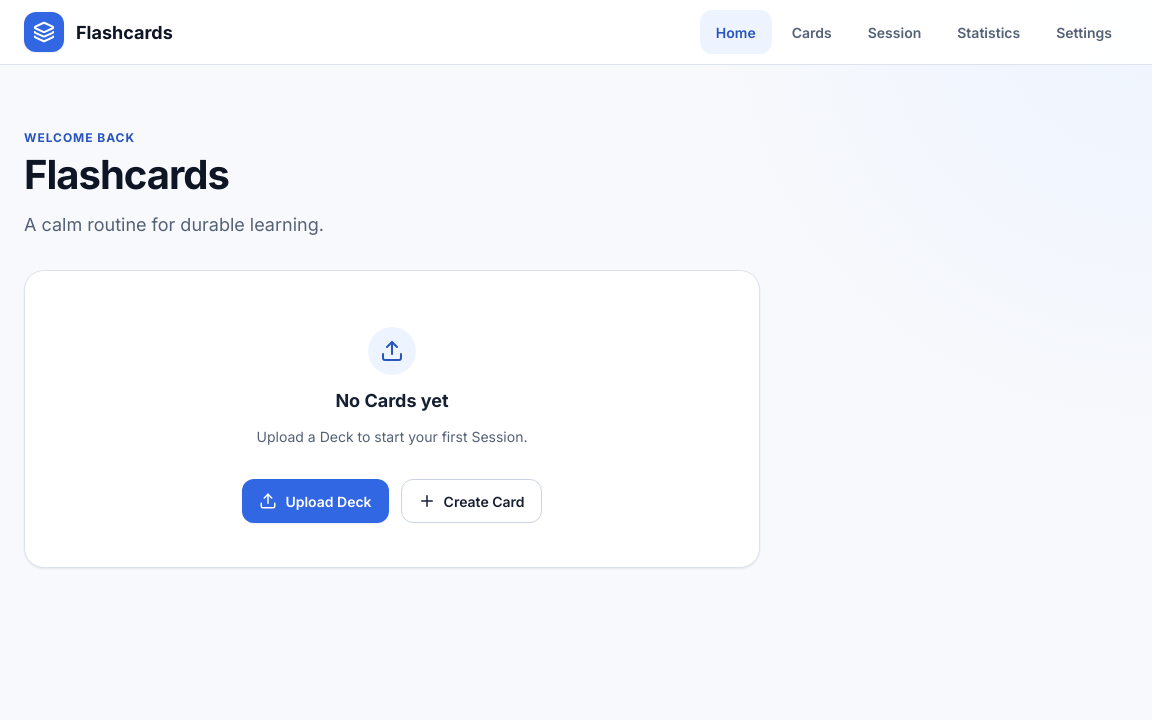
with browser language en-US, the language is en until the Learner picks one
The width and height of the screenshot is (1152, 720).
Step 1. Click the button "Settings" → [1084, 32], box [1040,10,1128,54]
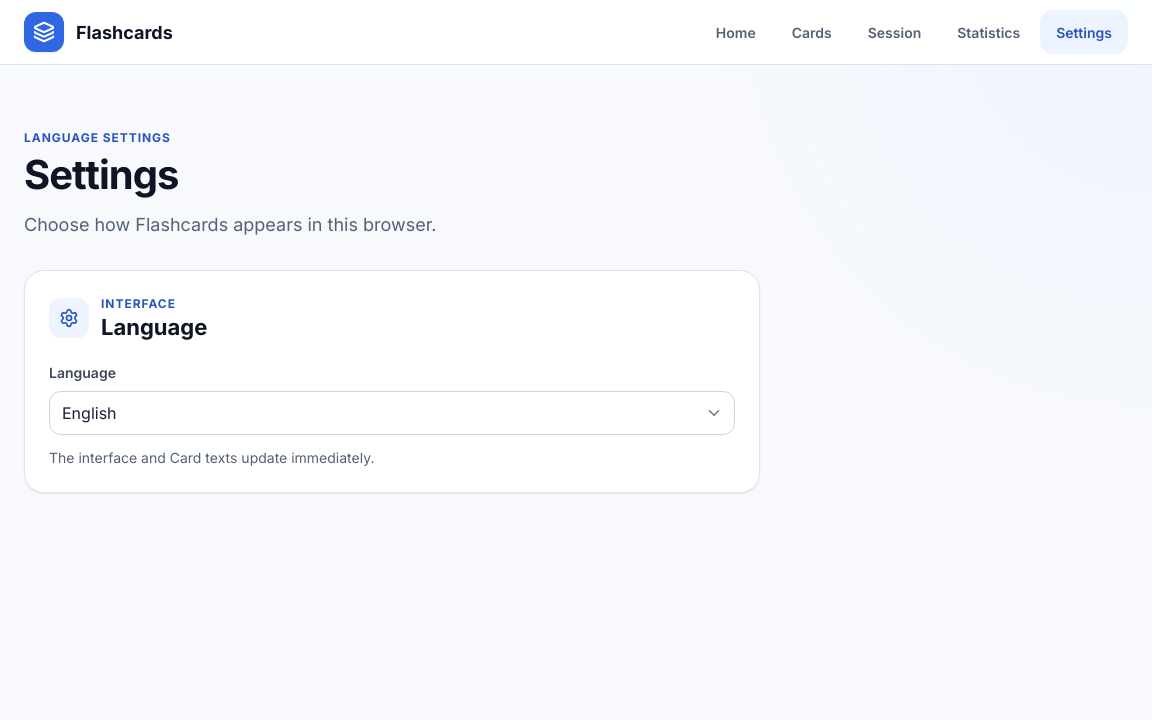
Result: the dropdown labelled "Language" shows "English" at [49,391,735,435]
